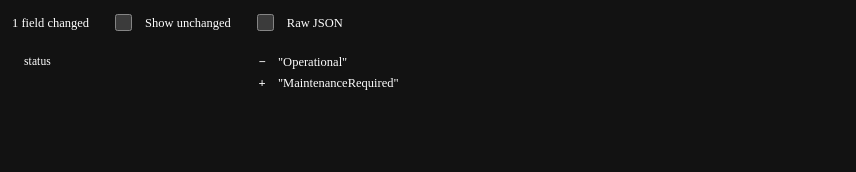
Scenario: JsonDiff › can show the raw before and after
What coordinates should you click on to do the following:
click the checkbox labelled "Raw JSON"
I would click on:
 (265, 22)
Its box is [257, 14, 274, 31].
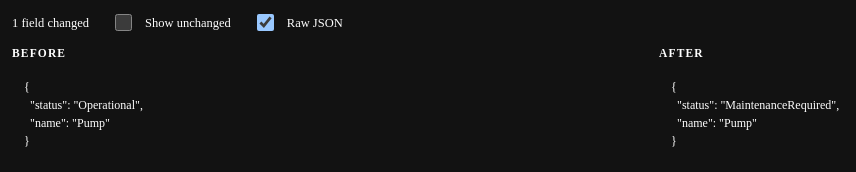
expect the heading "Before" is shown: met, box [12, 47, 66, 59]
expect the heading "After" is shown: met, box [659, 47, 704, 59]
